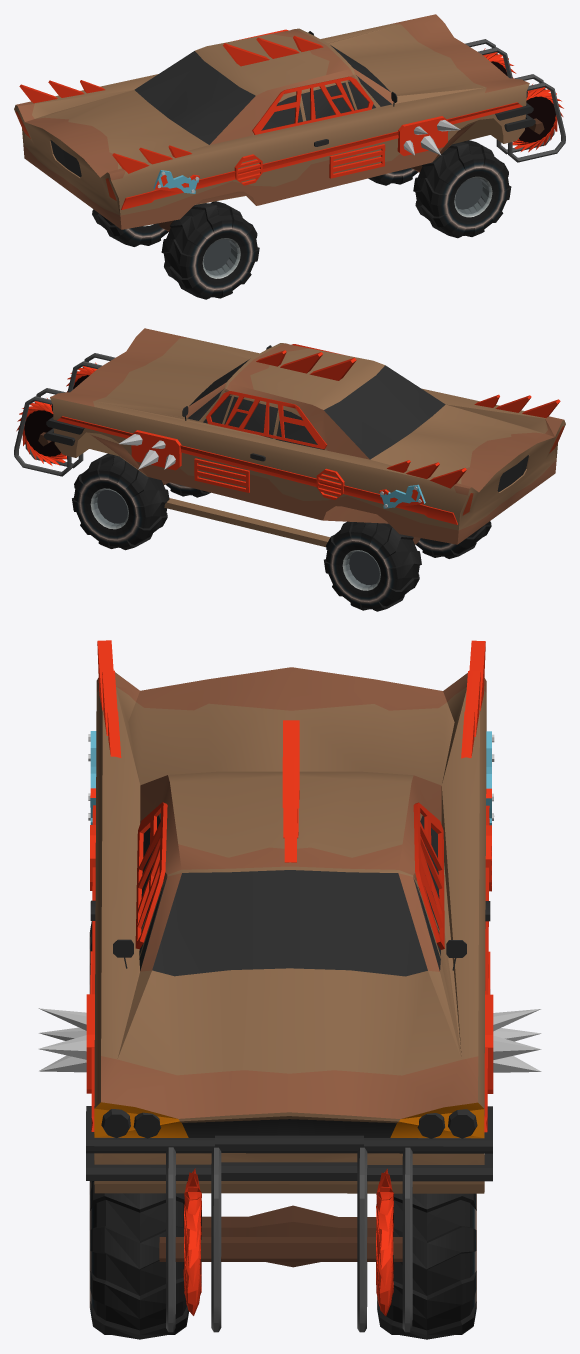
Rendered from car 4.fbx.
The picture shows the model from 3 angles, top to bottom: view 1: azimuth 30°, elevation 25°; view 2: azimuth 150°, elevation 25°; view 3: azimuth 270°, elevation 25°; orthographic projection. The views are drawn at different scales.
Visible parts, largest first — view 1: _gltfNode_62, Wheel_FR_5_Eagle_0.014, Wheel_FR_5_Eagle_0.013, _gltfNode_62.002, Wheel_FR_5_Eagle_0.016, Wheel_FR_5_Eagle_0.015; view 2: _gltfNode_62, Wheel_FR_5_Eagle_0.016, Wheel_FR_5_Eagle_0.015, _gltfNode_62.001, Wheel_FR_5_Eagle_0.014, Wheel_FR_5_Eagle_0.013; view 3: _gltfNode_62, Wheel_FR_5_Eagle_0.013, Wheel_FR_5_Eagle_0.015, _gltfNode_62.001, _gltfNode_62.002.
Boxes of the visible parts, x1,y1,x2,y2 form: _gltfNode_62: (14,14,565,231); Wheel_FR_5_Eagle_0.014: (161,201,259,299); Wheel_FR_5_Eagle_0.013: (413,140,511,238); _gltfNode_62.002: (512,84,563,152); Wheel_FR_5_Eagle_0.016: (92,209,168,246); Wheel_FR_5_Eagle_0.015: (368,168,418,185); _gltfNode_62: (14,328,565,547); Wheel_FR_5_Eagle_0.016: (324,521,421,611); Wheel_FR_5_Eagle_0.015: (72,453,169,550); _gltfNode_62.001: (16,398,66,465); Wheel_FR_5_Eagle_0.014: (415,521,491,558); Wheel_FR_5_Eagle_0.013: (165,482,210,497); _gltfNode_62: (38,640,541,1332); Wheel_FR_5_Eagle_0.013: (89,1181,189,1339); Wheel_FR_5_Eagle_0.015: (377,1193,476,1339); _gltfNode_62.001: (376,1168,393,1315); _gltfNode_62.002: (183,1168,201,1315).
Size of the model in its own units: 516 by 214 by 235.
2 materials, 2 textured.
